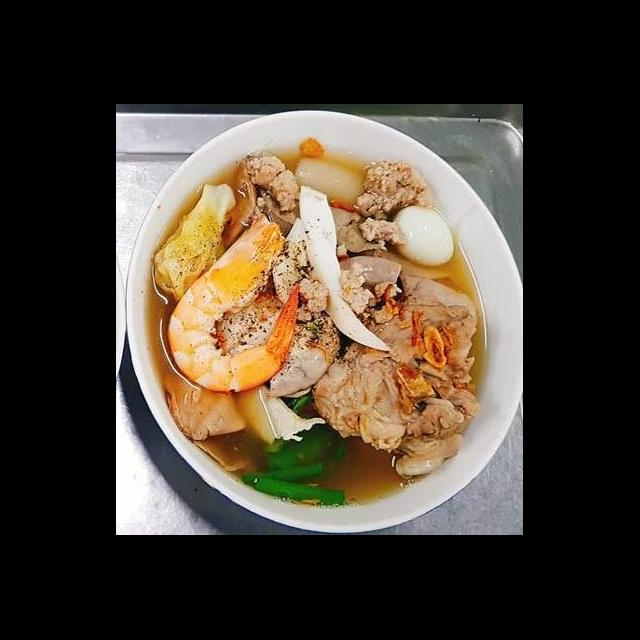muc: (294, 182, 398, 356)
thit bam: (350, 150, 436, 252), (230, 146, 306, 216), (294, 264, 378, 320)
thit heo: (306, 294, 478, 458), (230, 380, 332, 450)
tom: (160, 208, 310, 400)
trung: (386, 202, 458, 270)
